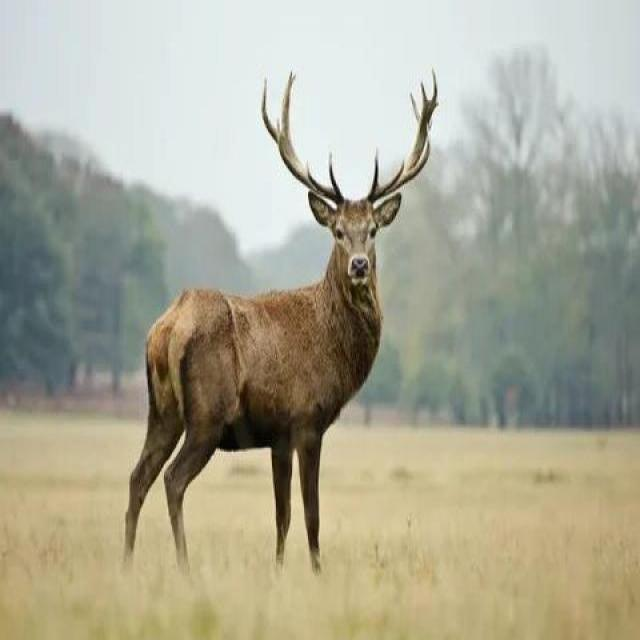deer: (123, 94, 462, 557)
